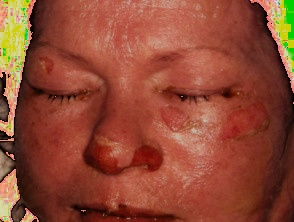SJS-TEN: (77, 127, 173, 181), (203, 96, 279, 153), (72, 195, 183, 222), (155, 98, 205, 144), (23, 44, 70, 90)
